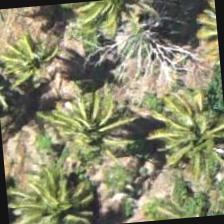Kelapa_Sawit: (40, 81, 138, 179), (142, 79, 223, 177), (0, 10, 79, 108), (7, 162, 103, 223)
